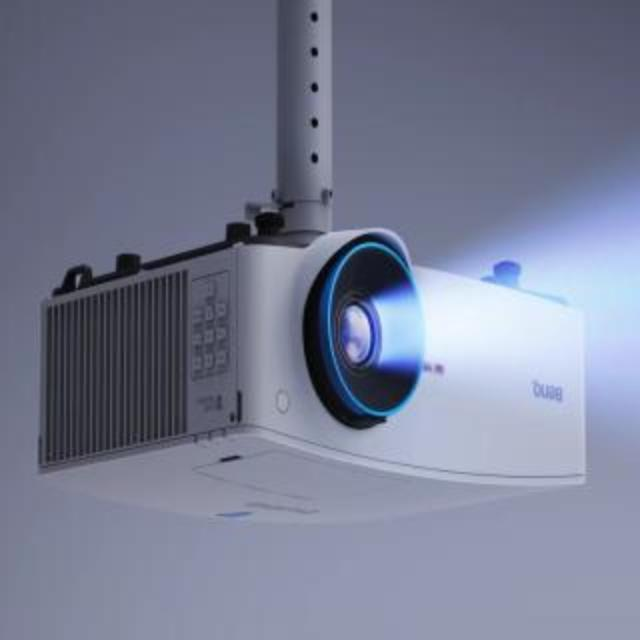Projector: (40, 224, 586, 526)
